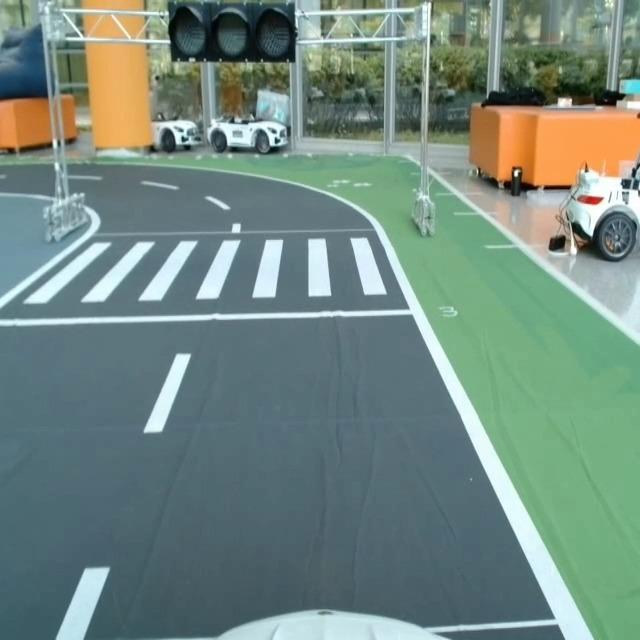traffic-light: (165, 0, 301, 68)
